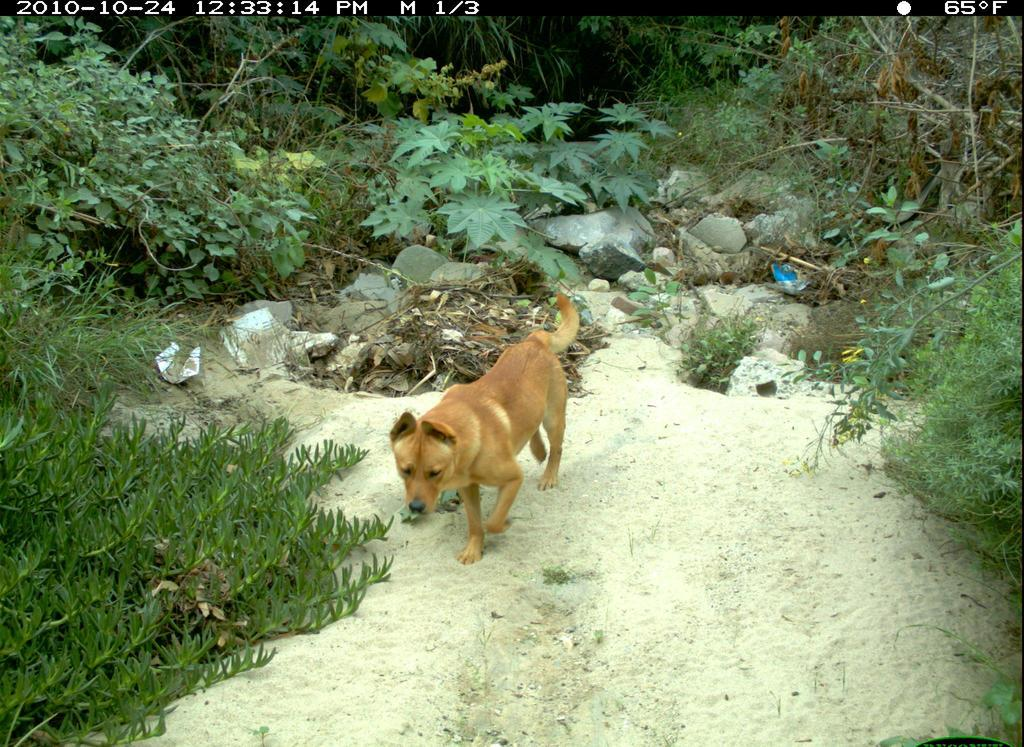dog: (360, 291, 593, 562)
